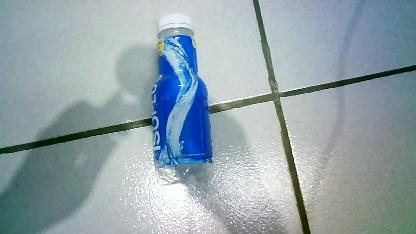Plastic Bottle: (152, 13, 212, 185)
